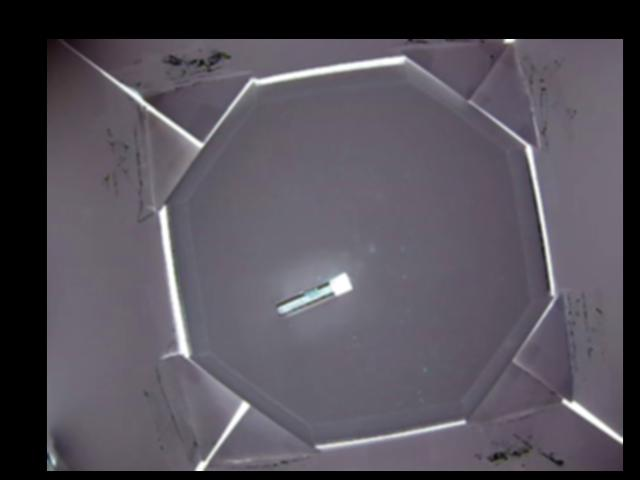Battery: (274, 271, 355, 318)
